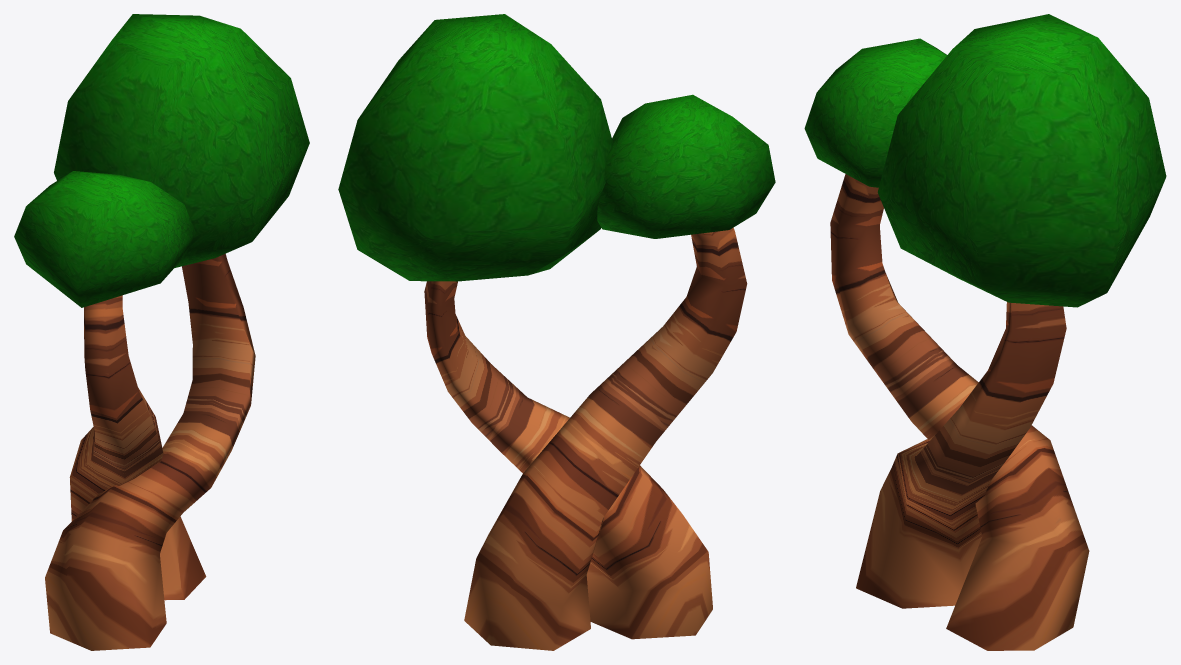
File: tree 3.fbx
3 renders of one model, left to right at view 1: azimuth 30°, elevation 25°; view 2: azimuth 150°, elevation 25°; view 3: azimuth 270°, elevation 25°, orthographic. The views are drawn at different scales.
Visible parts, largest first — view 1: tree_3; view 2: tree_3; view 3: tree_3.
Part boxes in pixels (x1,y1,x2,y2): tree_3: [14, 14, 309, 650]; tree_3: [338, 14, 775, 650]; tree_3: [804, 14, 1166, 650].
Size of the model in its own units: 39.52 by 66.01 by 35.44.
